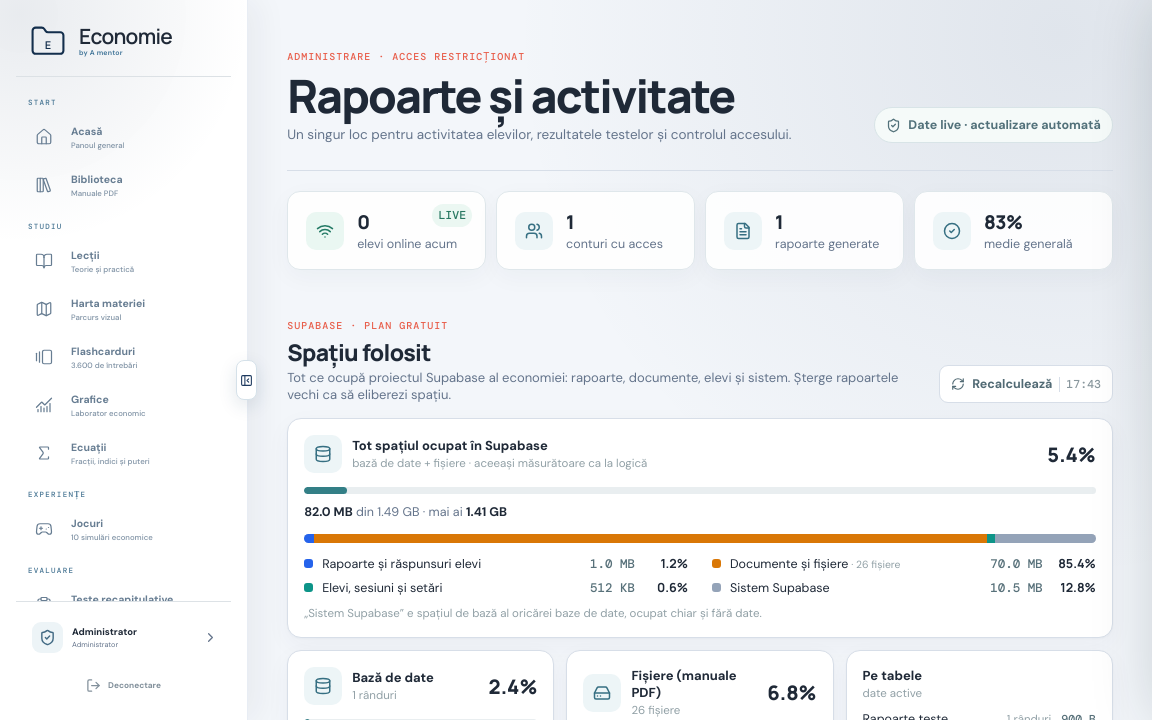
it: application flow › shows library visibility controls only to the administrator
Earlier steps of the test are not shown.
Expected: the navigation bar named "Navigare principală" is shown, [16,86,231,601]
What coordinates should you click on to do the following:
click the button "Biblioteca Manuale PDF"
I would click on:
 (122, 185)
Its box is [16,162,229,208].
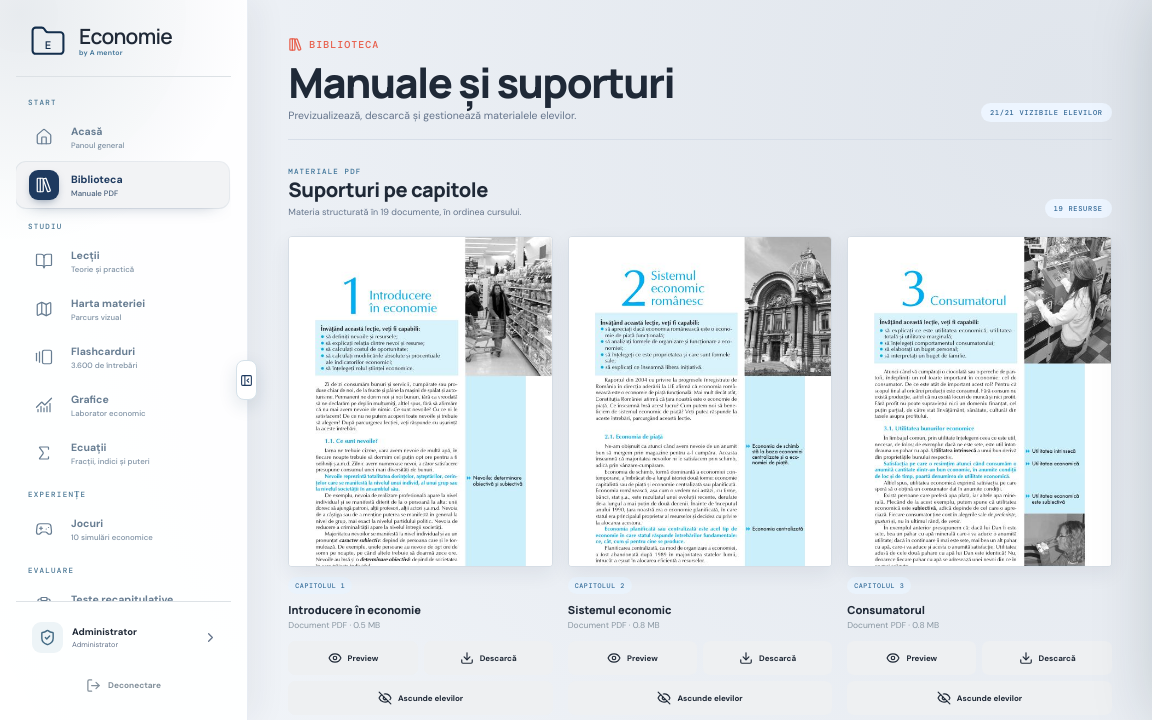
Now the number of elements with class "library-resource" is 21
Now the number of buttons "Ascunde elevilor" is 21
